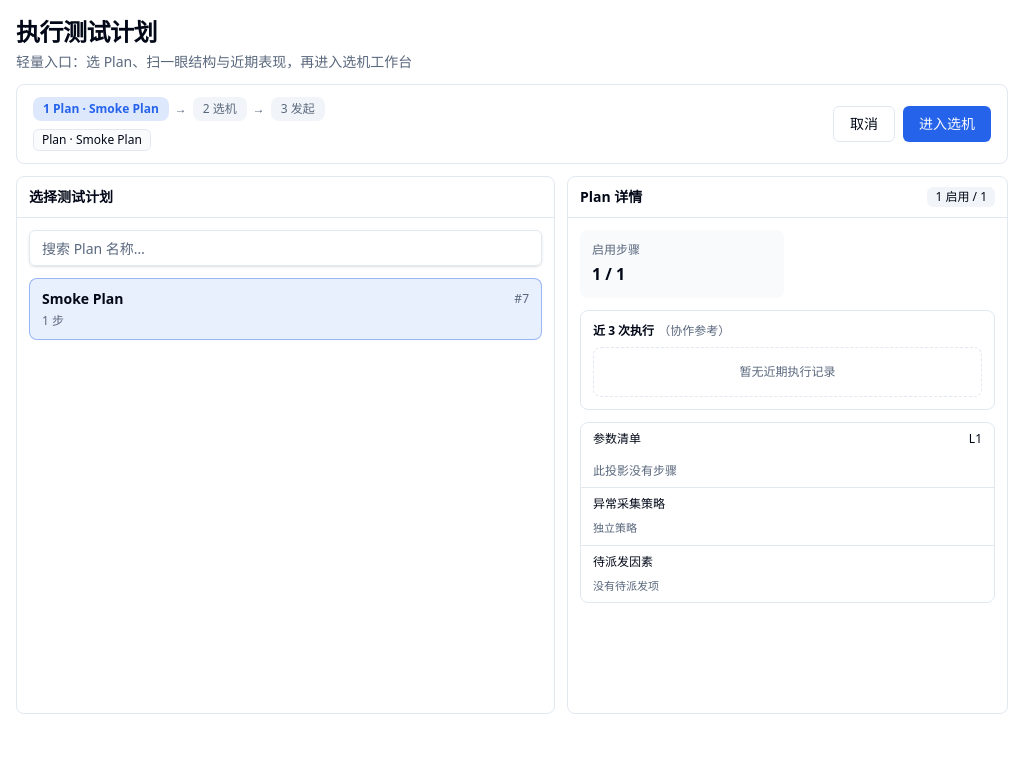
PlanExecutePage › gives the empty device pool a link to /devices instead of a dead-end copy
expect the text "启用步骤" is shown: met, box left=592, top=241, right=640, bottom=258
Click the button "进入选机" at (947, 124), box left=903, top=106, right=991, bottom=142
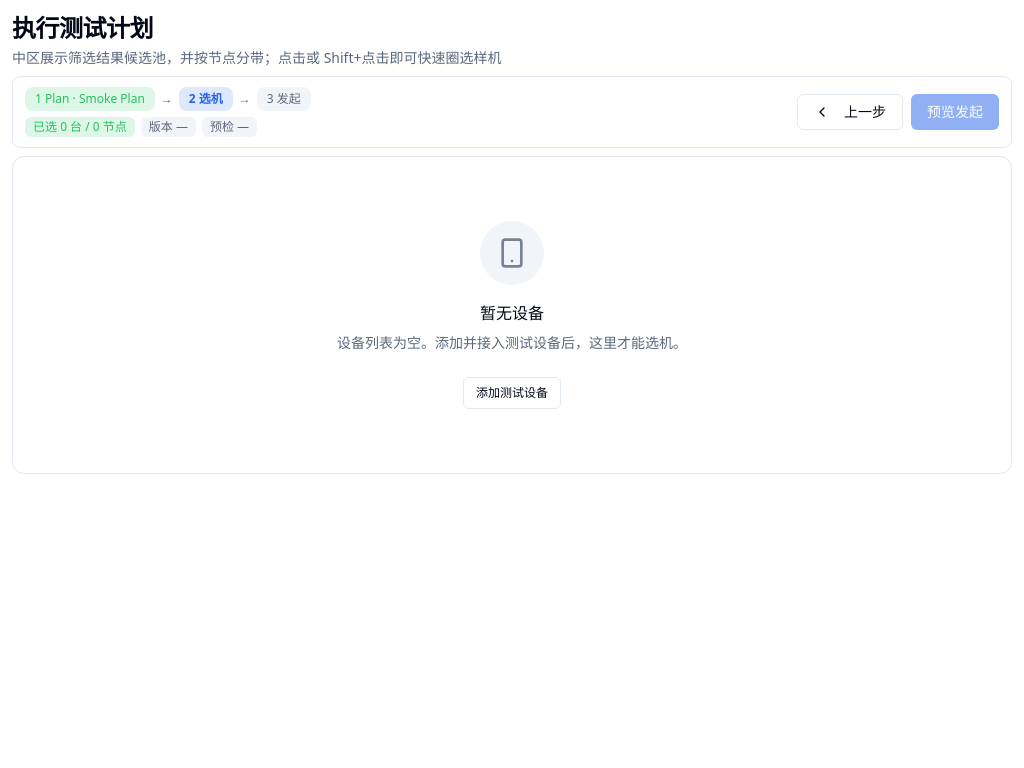
expect the text "暂无设备" is shown: met, box left=480, top=302, right=544, bottom=324
expect the text "版本 —" is shown: met, box left=141, top=117, right=196, bottom=137
